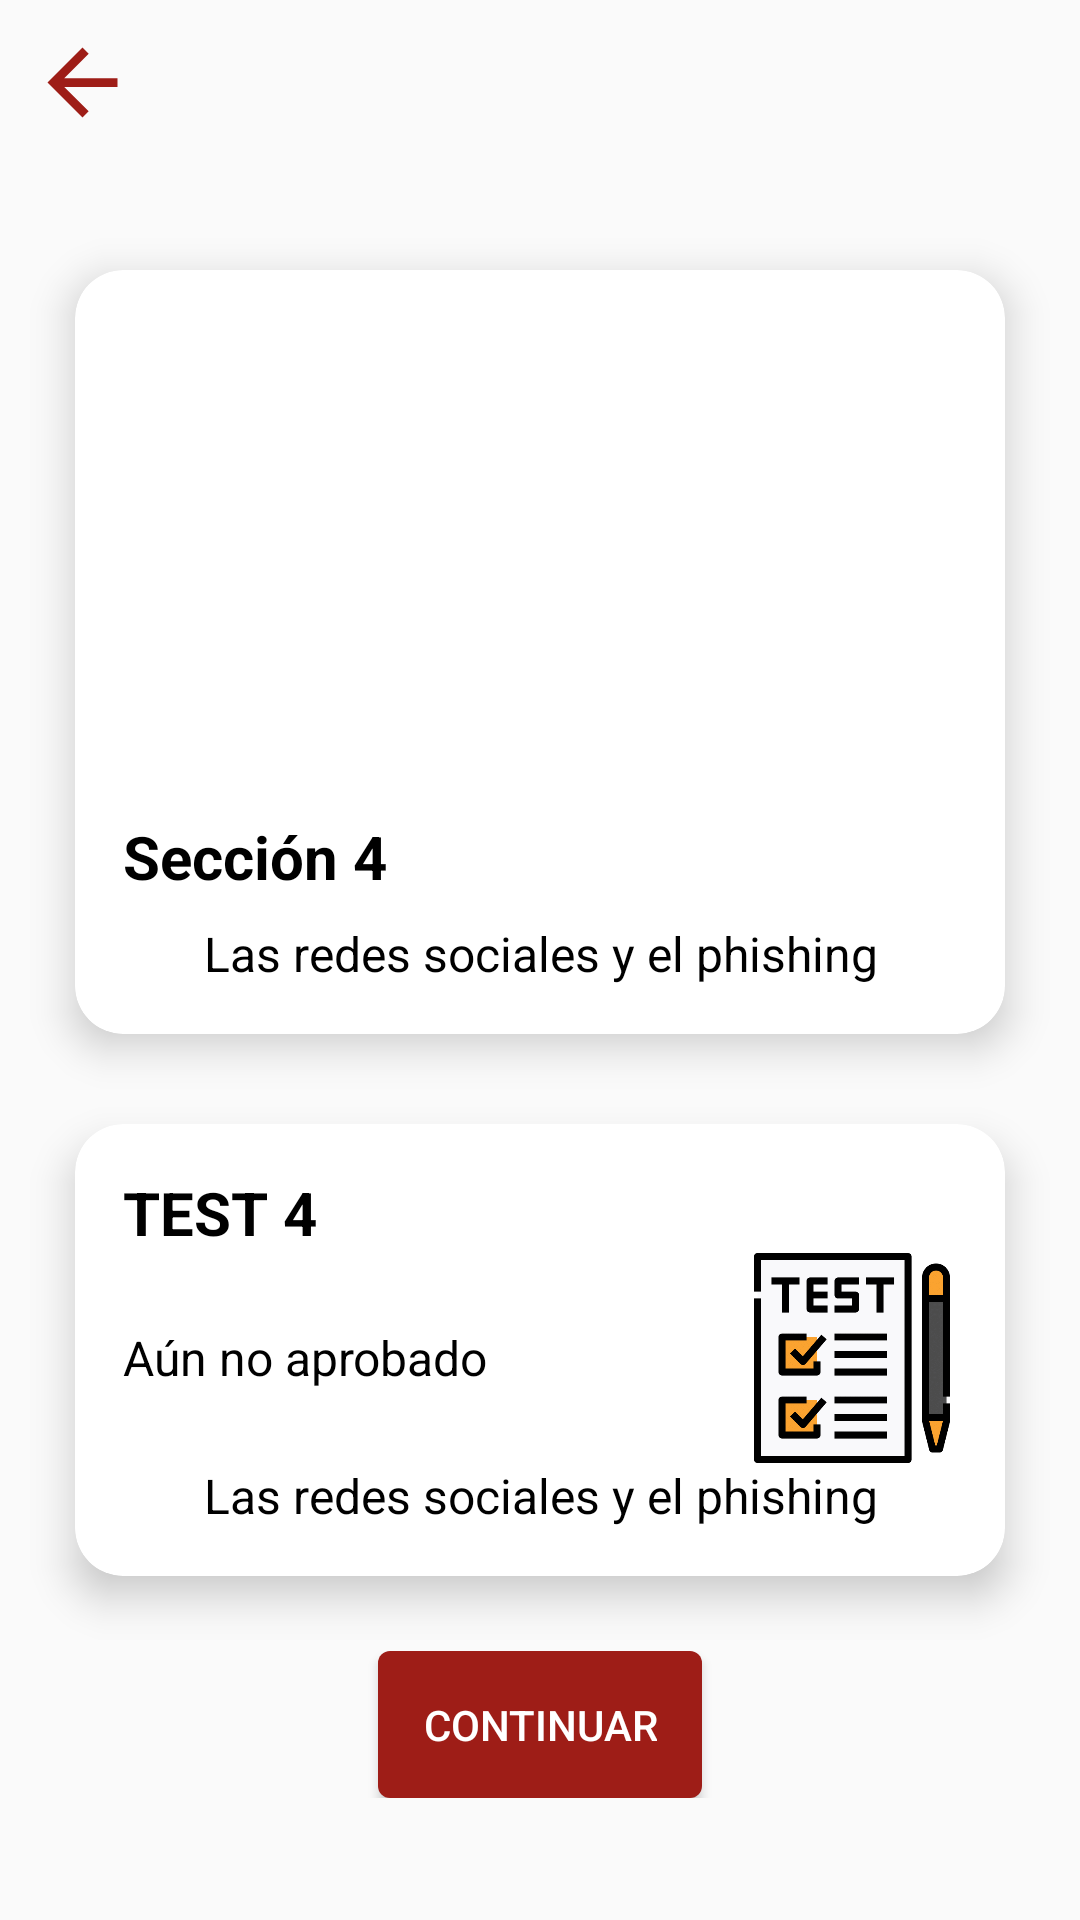

Where to tap for icons on this 1080x1920 app screen, as point (x, y):
back arrow: point (82, 82)
